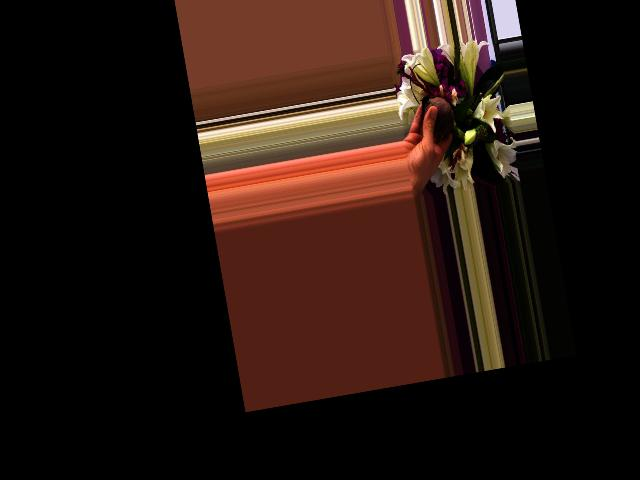beet: (419, 89, 465, 148)
